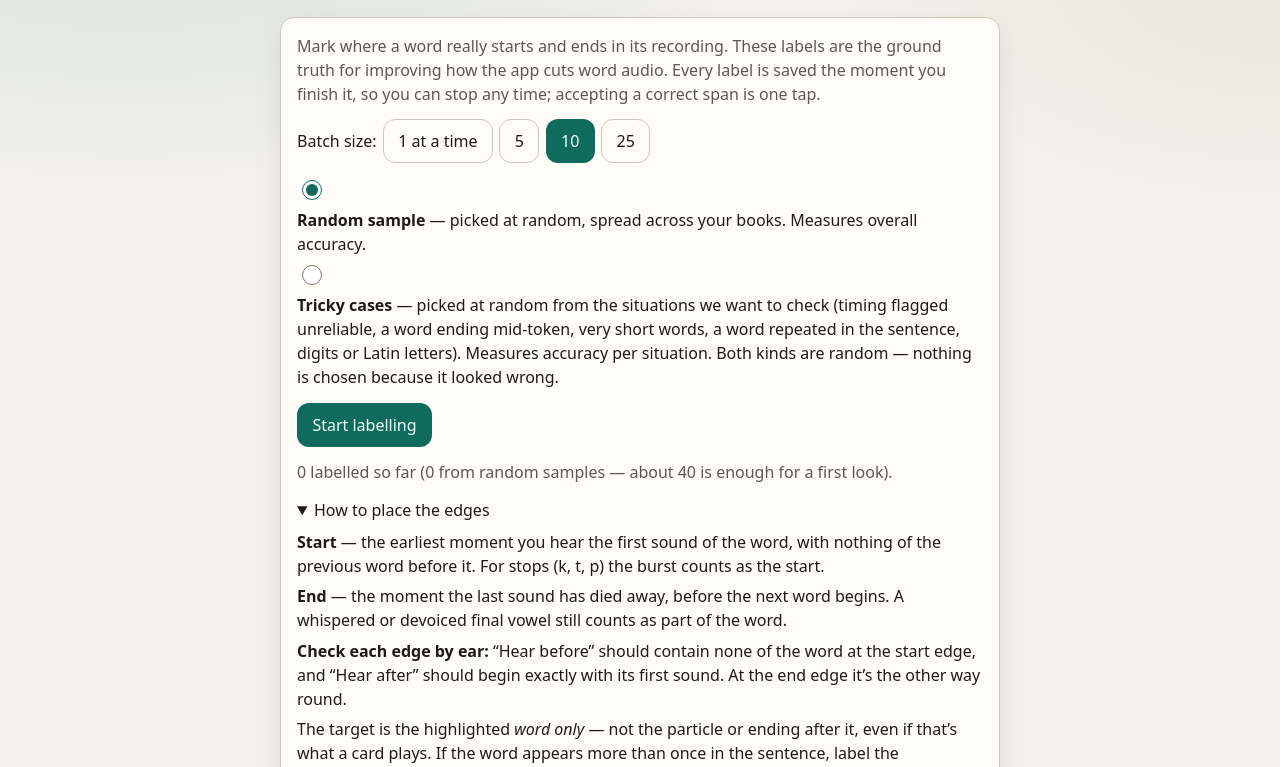
Test: LabelWordAudioPage › accepts the detected span in one tap, storing what was shown
Click the button "Start labelling" at (364, 425), box [297,403,432,447]
(page scrolled)
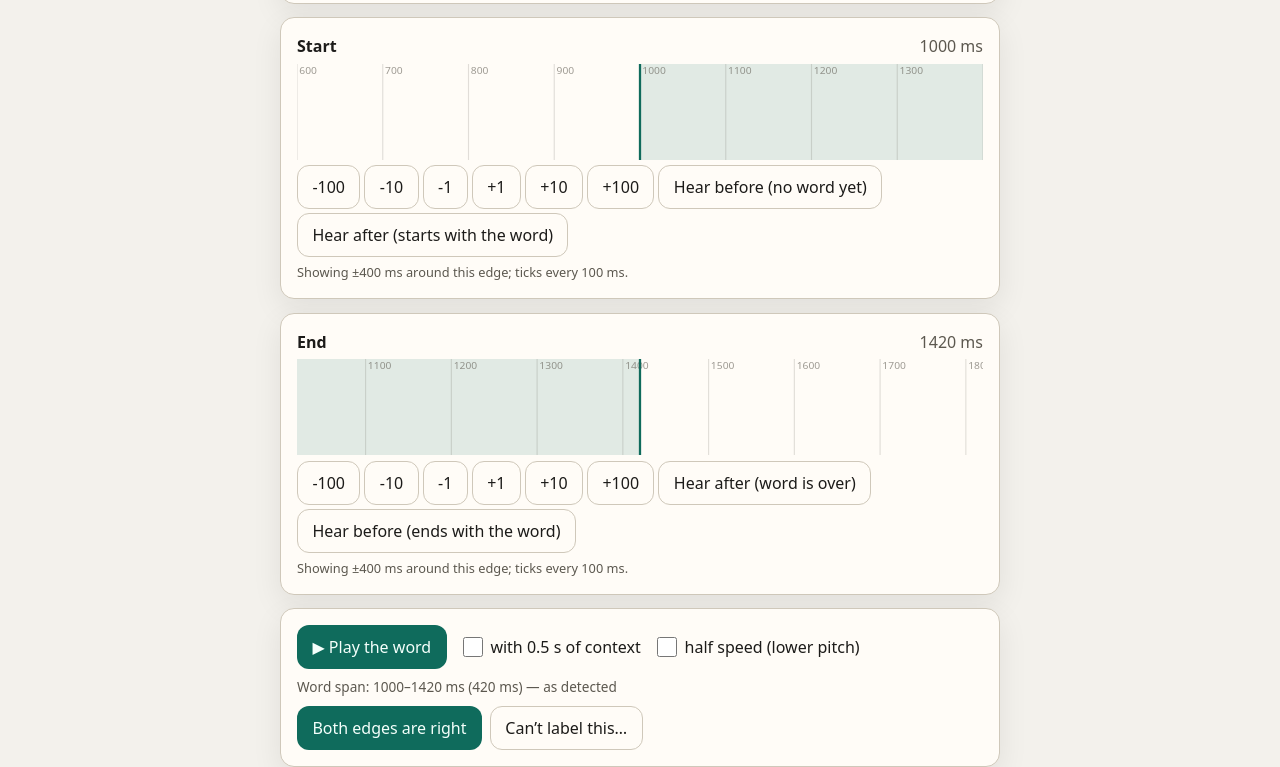
Click the button "Both edges are right" at (389, 728), box [297,706,482,750]
(page scrolled)
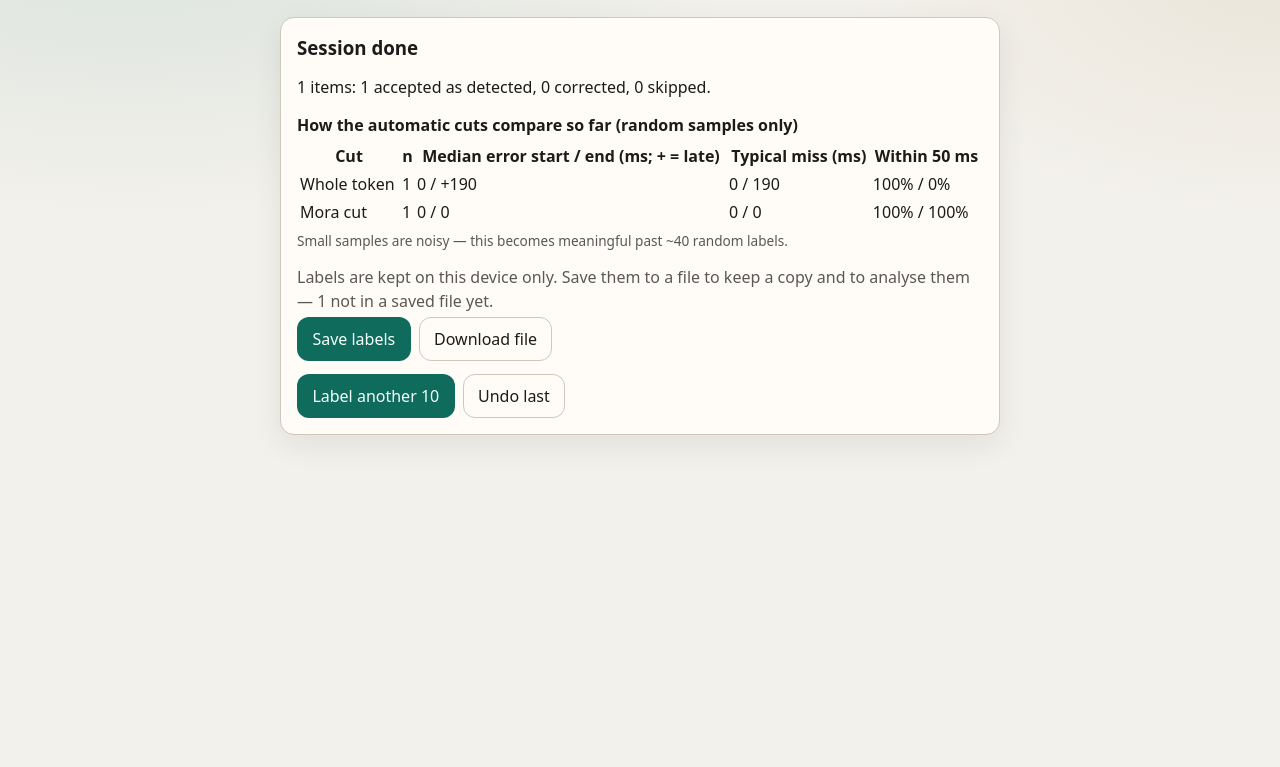
Result: the heading "Session done" is shown at [297,35,418,60]
